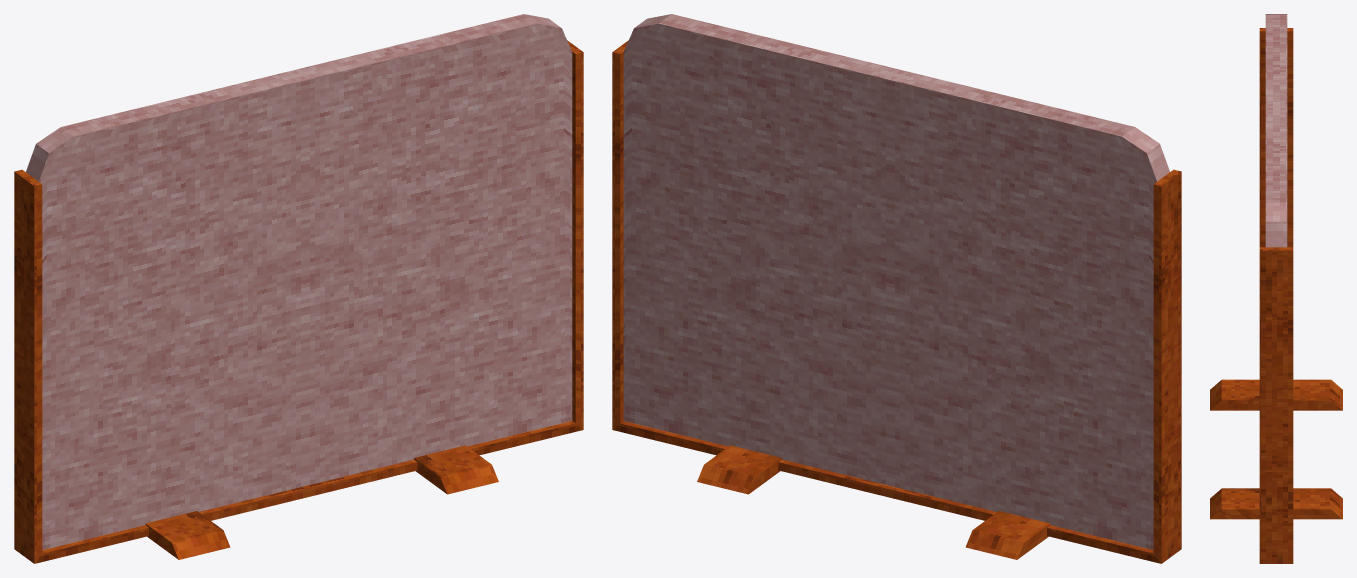
File: divider_veneer_red_low_half.glb
The picture shows the model from 3 angles, left to right: view 1: azimuth 30°, elevation 25°; view 2: azimuth 150°, elevation 25°; view 3: azimuth 270°, elevation 25°; orthographic projection. The views are drawn at different scales.
Visible parts, largest first — view 1: divider_veneer_red_low_half; view 2: divider_veneer_red_low_half; view 3: divider_veneer_red_low_half.
Boxes of the visible parts, bbox=[...] form: divider_veneer_red_low_half: bbox=[14, 14, 583, 563]; divider_veneer_red_low_half: bbox=[612, 14, 1181, 563]; divider_veneer_red_low_half: bbox=[1210, 14, 1342, 563].
Size of the model in its own units: 2.07 by 1.5 by 0.523.
1 material, 1 textured.
